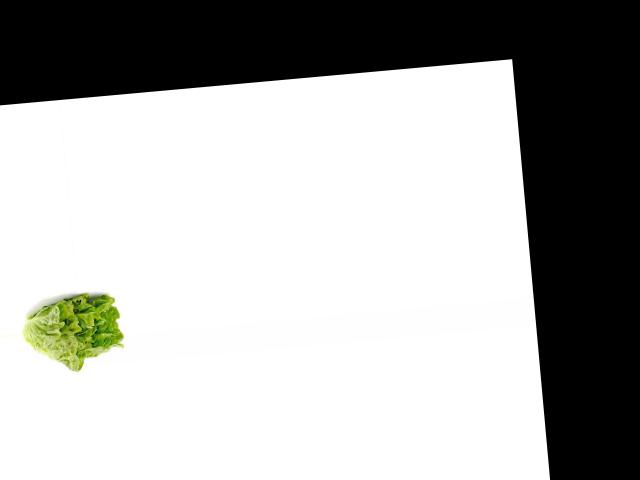lettuce: (19, 285, 125, 374)
